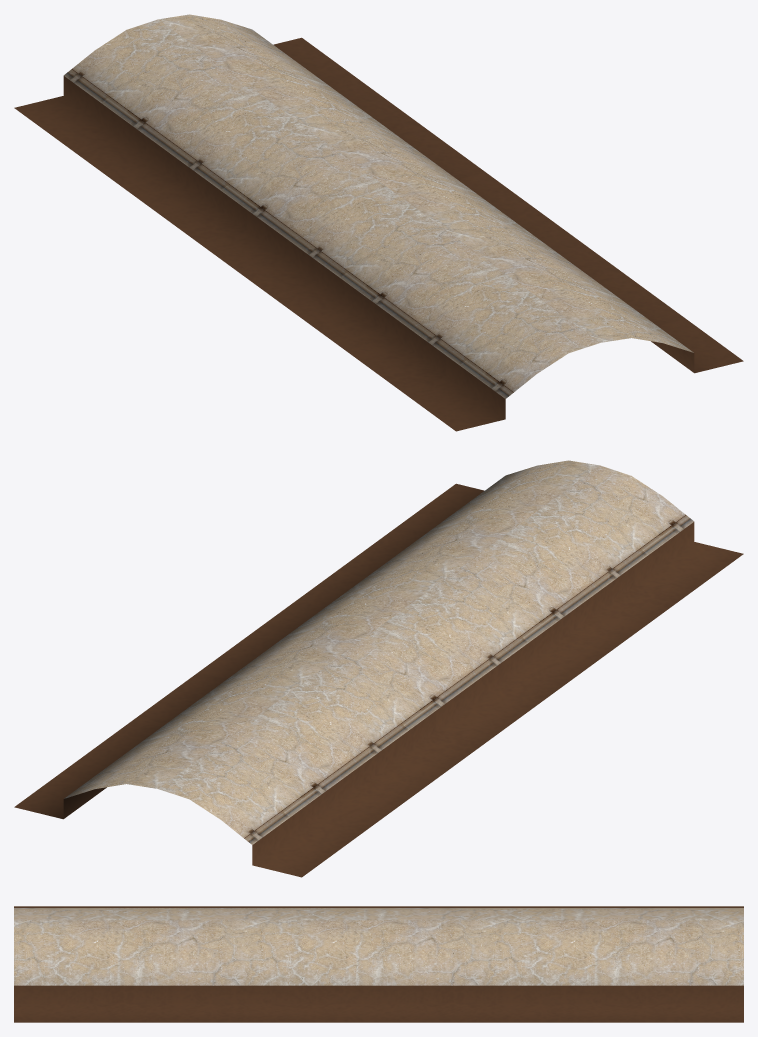
File: Ceiling_Hall_Servants.fbx
3 renders of one model, top to bottom at view 1: azimuth 30°, elevation 25°; view 2: azimuth 150°, elevation 25°; view 3: azimuth 270°, elevation 25°, orthographic. The views are drawn at different scales.
Parts seen in each view (by area): view 1: Plane.013; view 2: Plane.013; view 3: Plane.013.
Part boxes in pixels (x1,y1,x2,y2): Plane.013: [14, 14, 743, 431]; Plane.013: [14, 460, 743, 877]; Plane.013: [14, 906, 743, 1022].
Size of the model in its own units: 502 by 88.94 by 1335.
